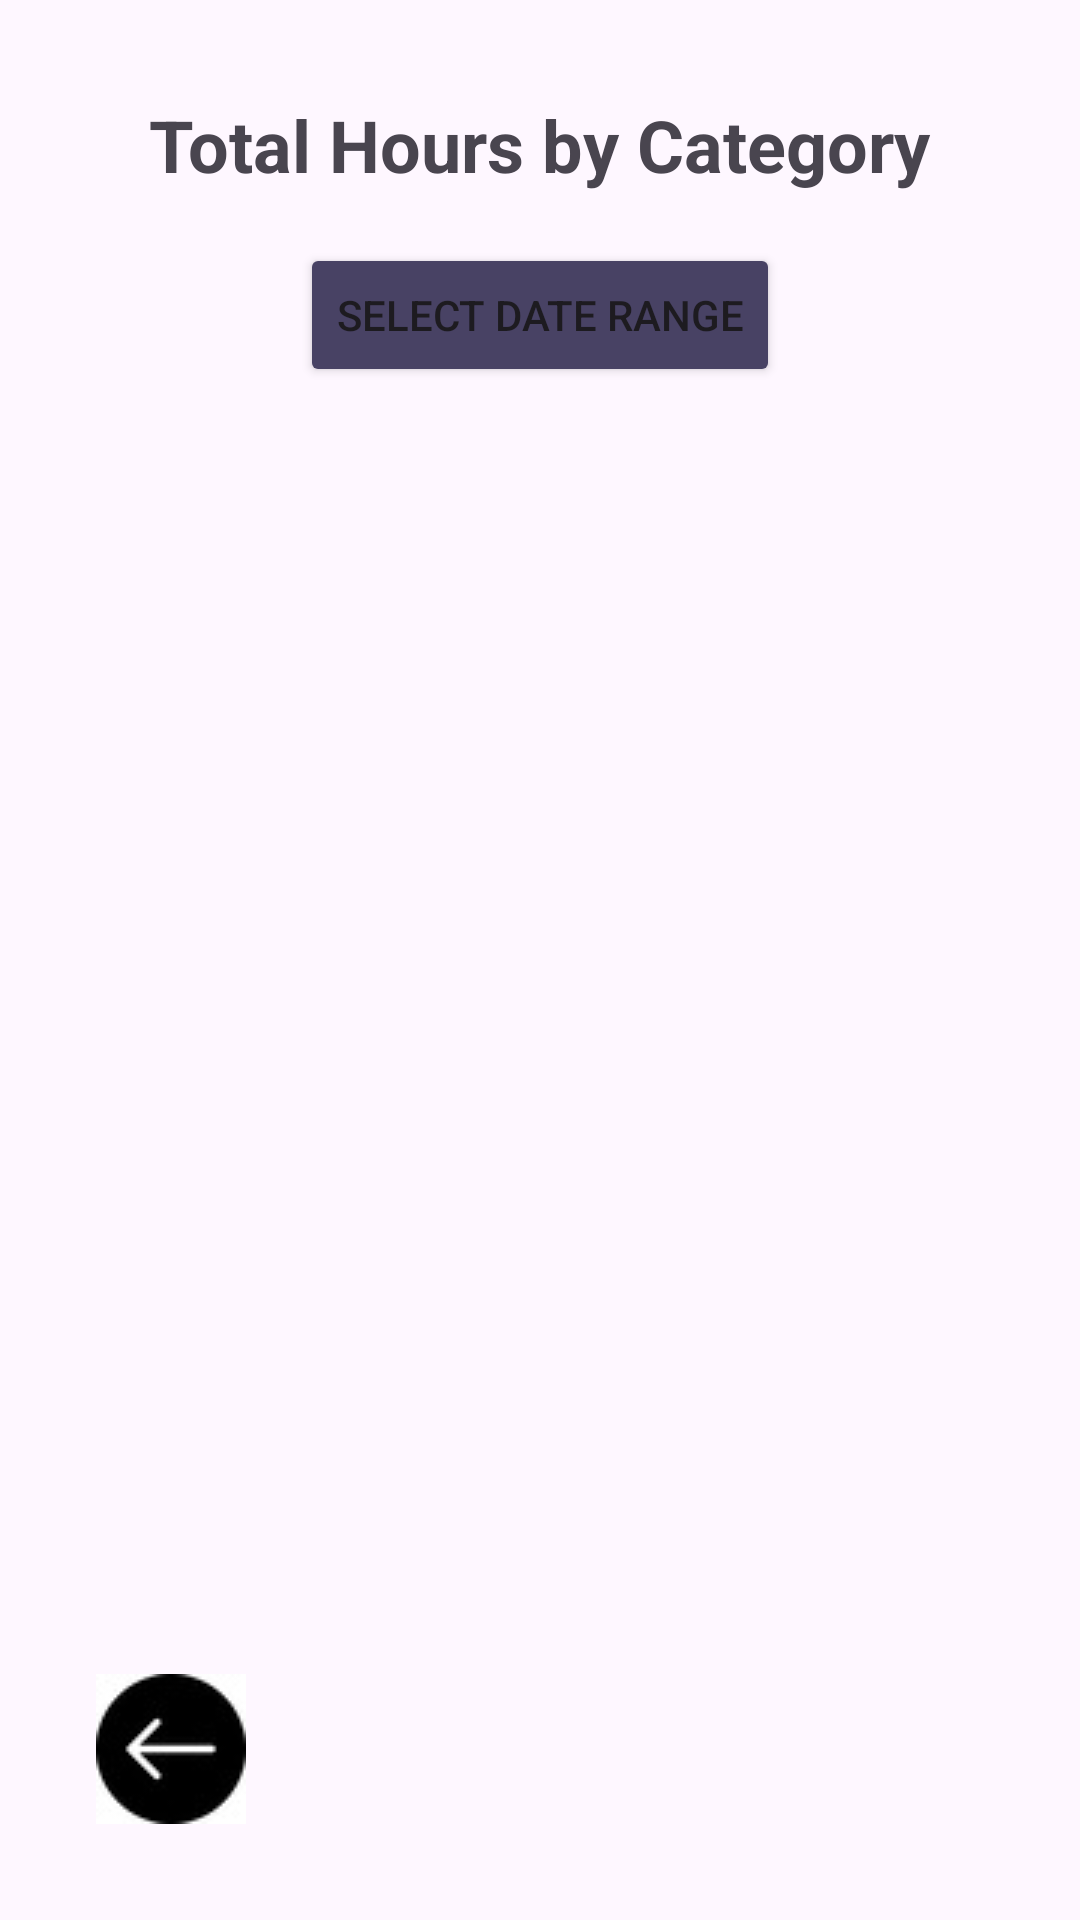

Named icons in this screenshot (1080w x 1920h) and their centers, point (x, y):
Back: point (171, 1749)
